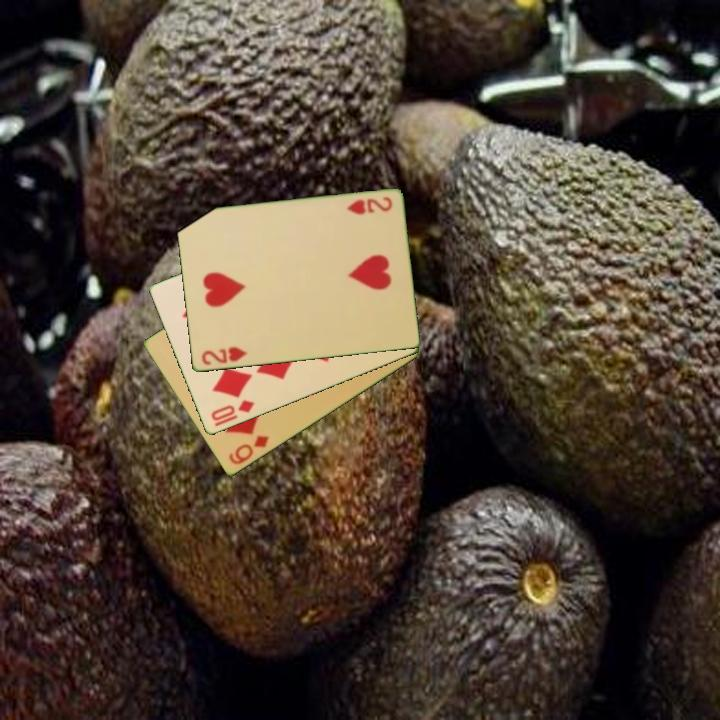10d: (207, 396, 257, 424)
2h: (198, 343, 250, 368), (343, 194, 395, 218)
6d: (225, 432, 272, 468)
